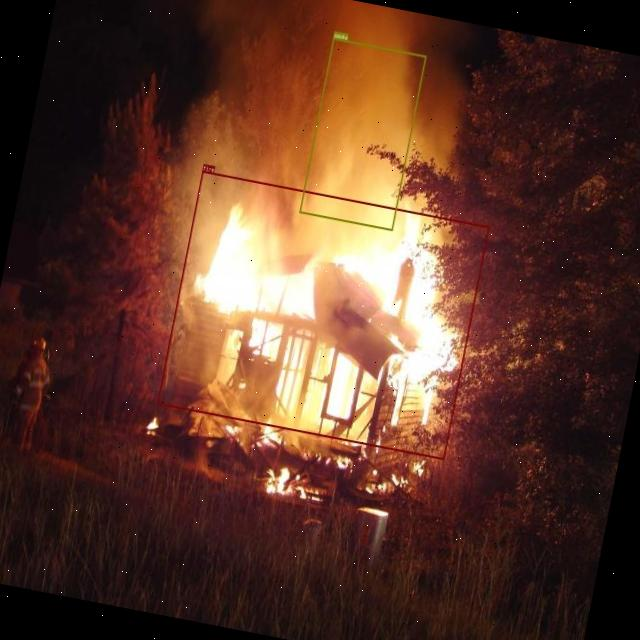fire: (157, 171, 489, 460)
smoke: (299, 37, 426, 231)
